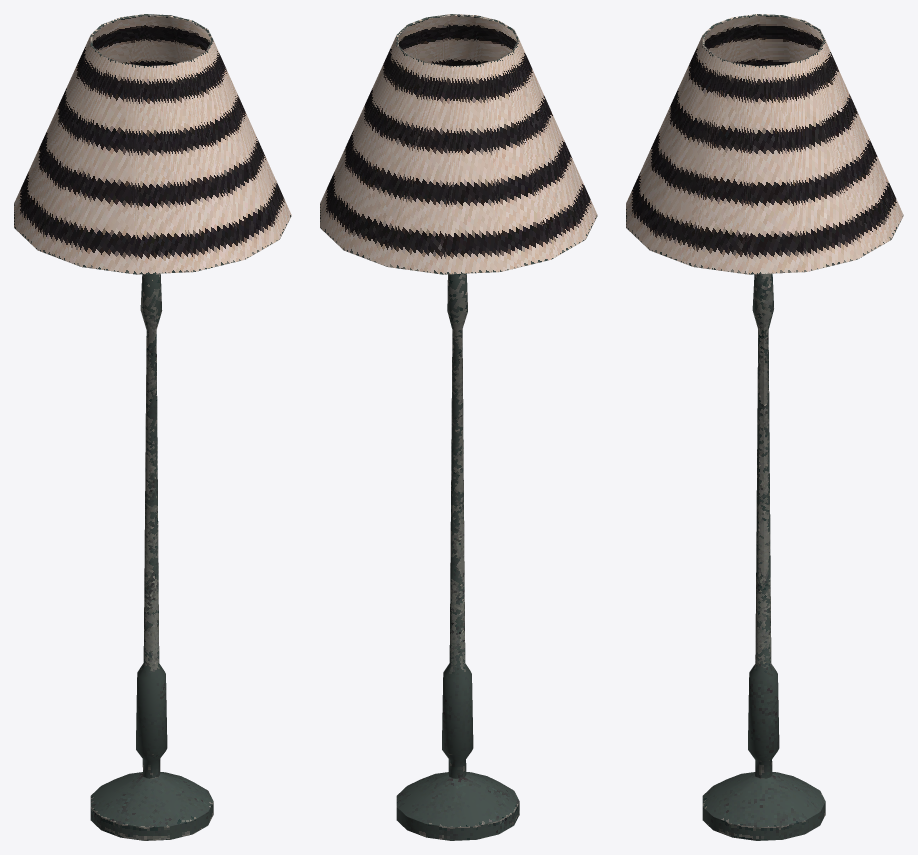
The model's file is FloorLamp.glb.
3 views of the same model, side by side, from view 1: azimuth 30°, elevation 25°; view 2: azimuth 150°, elevation 25°; view 3: azimuth 270°, elevation 25° (orthographic).
Parts seen in each view (by area): view 1: FloorLamp; view 2: FloorLamp; view 3: FloorLamp.
Boxes of the visible parts, <box> form: FloorLamp: <box>14,14,291,840</box>; FloorLamp: <box>320,14,597,840</box>; FloorLamp: <box>626,14,903,840</box>.
Bounding box in the file's own units: 0.4117 × 1.26 × 0.4094.
1 material, 1 textured.
